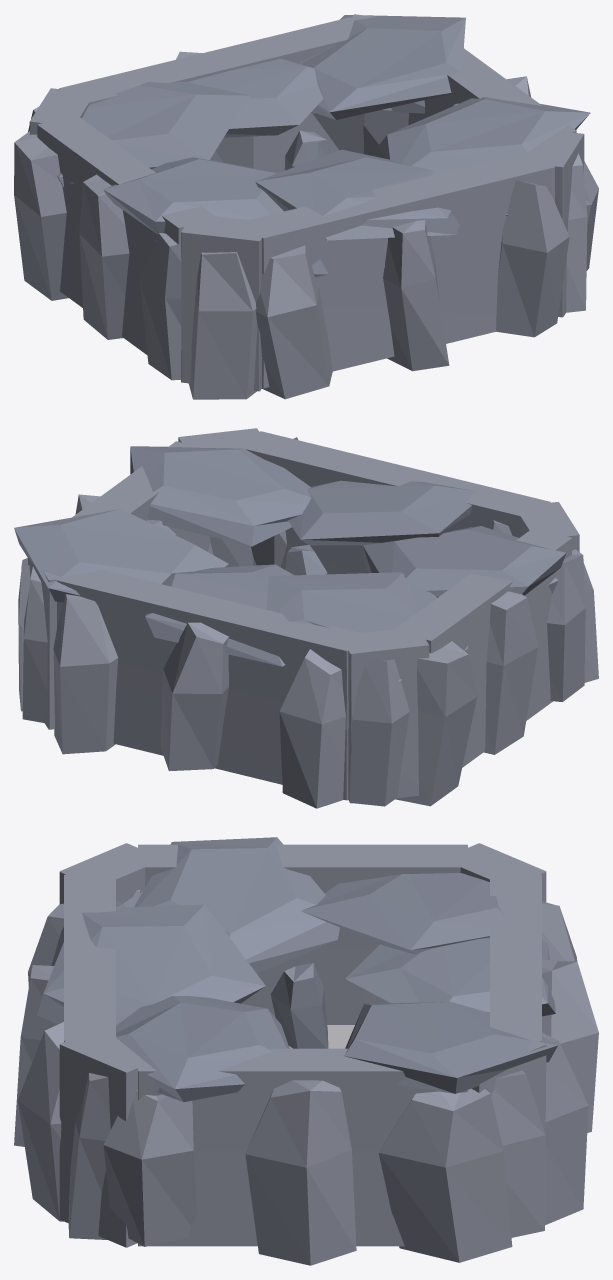
File: rocklock-rocks.fbx
3 views of the same model, one above another, from view 1: azimuth 30°, elevation 25°; view 2: azimuth 150°, elevation 25°; view 3: azimuth 270°, elevation 25° (orthographic). The views are drawn at different scales.
Parts seen in each view (by area): view 1: EndBoundary1Stone, CeilingSlab2, SideBoundary-1Stone, CeilingSlab0, CeilingSlab5, CavernColumn03, CavernColumn05, CavernColumn06, EndBoundary-1Stone, CeilingSlab4, CeilingSlab3, CavernColumn04 (+14 smaller); view 2: EndBoundary-1Stone, CeilingSlab5, CeilingSlab2, SideBoundary-1Stone, CeilingSlab4, EndBoundary1Stone, CeilingSlab3, CavernColumn13, CavernColumn11, CavernColumn12, CeilingSlab0, CavernColumn09 (+15 smaller); view 3: SideBoundary1Stone, CavernColumn15, CavernColumn00, CeilingSlab3, CeilingSlab4, CeilingSlab2, SideBoundary-1Stone, CeilingSlab5, CavernColumn01, CeilingSlab0, EndBoundary-1Stone, CeilingSlab1 (+14 smaller).
Boxes of the visible parts, x1=… form: EndBoundary1Stone: x1=242, y1=151, x2=554, y2=388; CeilingSlab2: x1=299, y1=15, x2=465, y2=119; SideBoundary-1Stone: x1=37, y1=115, x2=217, y2=354; CeilingSlab0: x1=70, y1=81, x2=249, y2=184; CeilingSlab5: x1=378, y1=97, x2=590, y2=173; CavernColumn03: x1=496, y1=180, x2=569, y2=337; CavernColumn05: x1=255, y1=245, x2=332, y2=399; CavernColumn06: x1=188, y1=252, x2=257, y2=399; EndBoundary-1Stone: x1=59, y1=17, x2=352, y2=173; CeilingSlab4: x1=255, y1=149, x2=459, y2=240; CeilingSlab3: x1=103, y1=157, x2=283, y2=234; CavernColumn04: x1=383, y1=220, x2=449, y2=371; EndBoundary-1Stone: x1=57, y1=570, x2=362, y2=800; CeilingSlab5: x1=130, y1=446, x2=311, y2=546; CeilingSlab2: x1=14, y1=509, x2=228, y2=602; SideBoundary-1Stone: x1=395, y1=528, x2=571, y2=767; CeilingSlab4: x1=288, y1=480, x2=476, y2=545; EndBoundary1Stone: x1=239, y1=431, x2=550, y2=574; CeilingSlab3: x1=362, y1=526, x2=566, y2=597; CavernColumn13: x1=53, y1=594, x2=118, y2=754; CavernColumn11: x1=279, y1=649, x2=345, y2=808; CavernColumn12: x1=160, y1=622, x2=228, y2=771; CeilingSlab0: x1=266, y1=572, x2=468, y2=681; CavernColumn09: x1=395, y1=641, x2=476, y2=806; SideBoundary1Stone: x1=138, y1=1048, x2=467, y2=1246; CavernColumn15: x1=378, y1=1088, x2=512, y2=1262; CavernColumn00: x1=245, y1=1080, x2=356, y2=1265; CeilingSlab3: x1=134, y1=837, x2=339, y2=973; CeilingSlab4: x1=37, y1=904, x2=265, y2=1025; CeilingSlab2: x1=344, y1=1002, x2=557, y2=1093; SideBoundary-1Stone: x1=138, y1=844, x2=467, y2=1024; CeilingSlab5: x1=116, y1=996, x2=289, y2=1101; CavernColumn01: x1=103, y1=1090, x2=196, y2=1246; CeilingSlab0: x1=301, y1=873, x2=504, y2=954; EndBoundary-1Stone: x1=490, y1=874, x2=541, y2=1041; CeilingSlab1: x1=345, y1=937, x2=555, y2=1016.
Bounding box in the file's own units: 29151 × 10423 × 27847.
